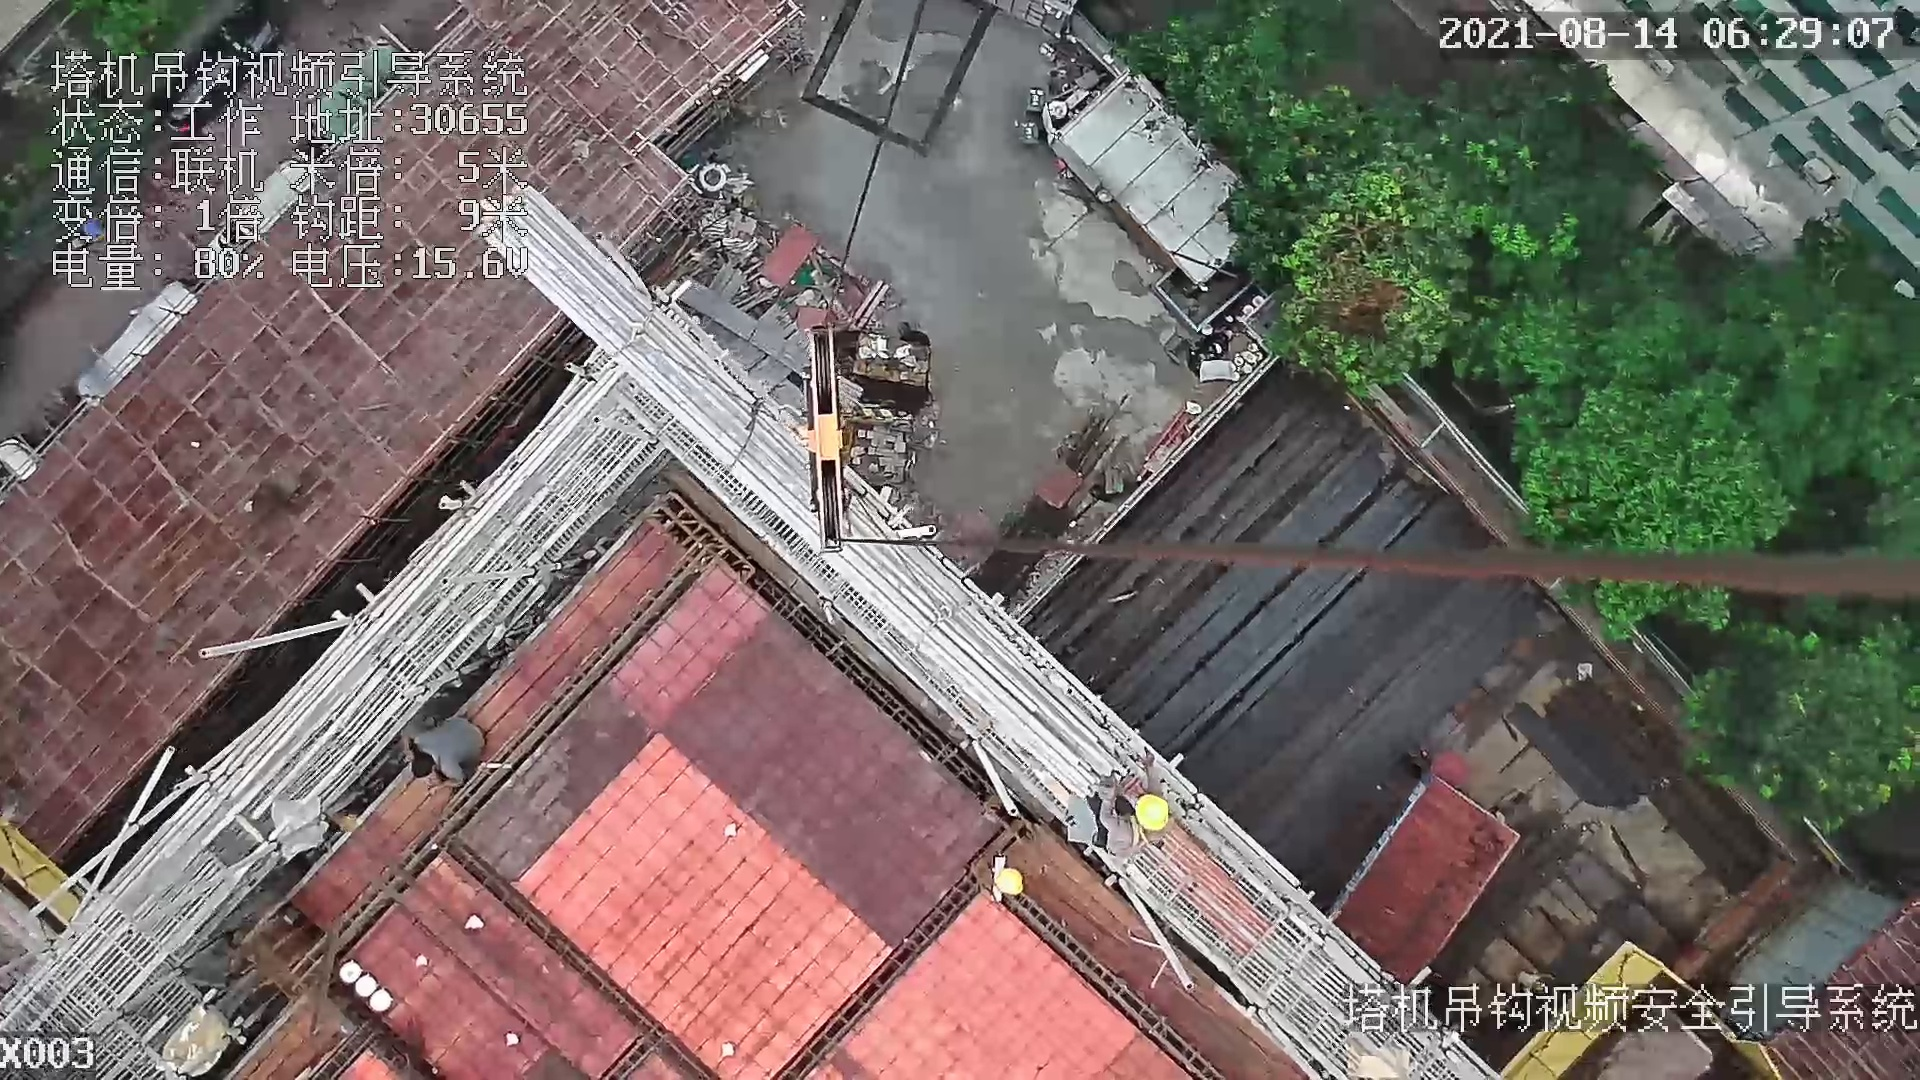helmet: (994, 864, 1027, 909)
hook: (800, 327, 849, 553)
person: (1077, 755, 1172, 867)
rebar: (1040, 395, 1505, 796)
